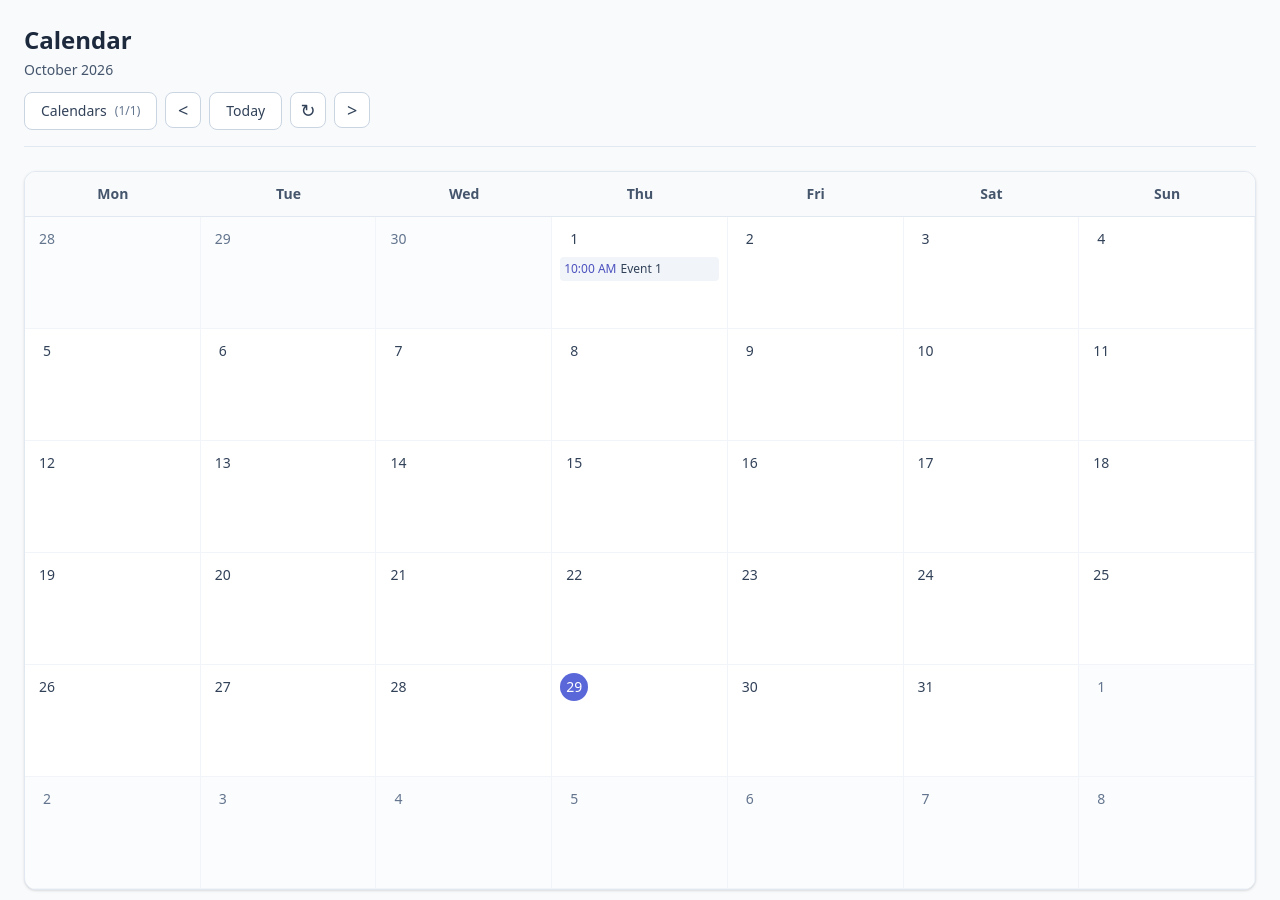
Test: Calendar › refreshes a partially ingested month to show newly stored events
Expected: the text "Event 1" is shown, left=620, top=260, right=662, bottom=277
Click the button "↻". click: [308, 110]
box: left=290, top=92, right=326, bottom=128
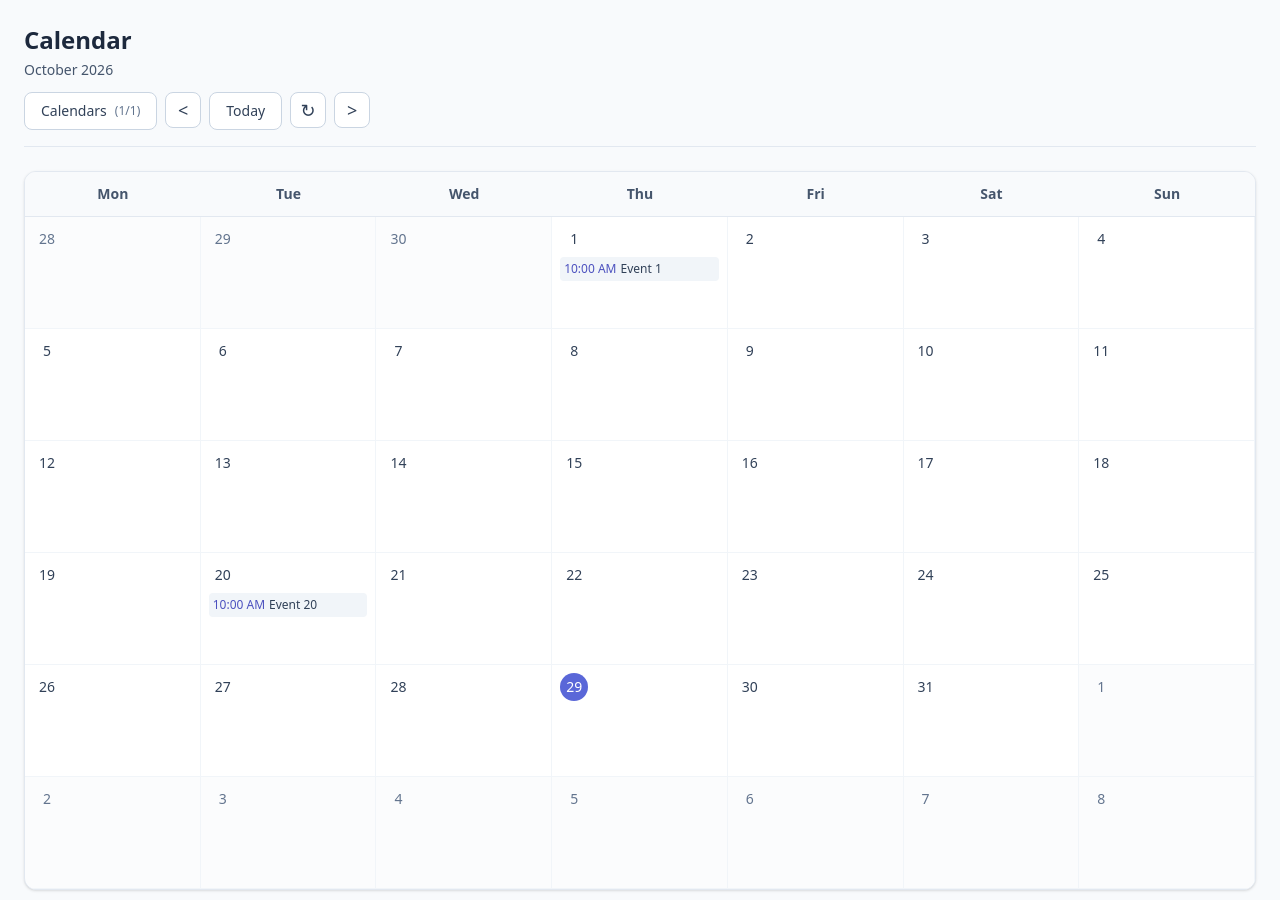
Result: the text "Event 20" is shown at left=269, top=596, right=317, bottom=613
